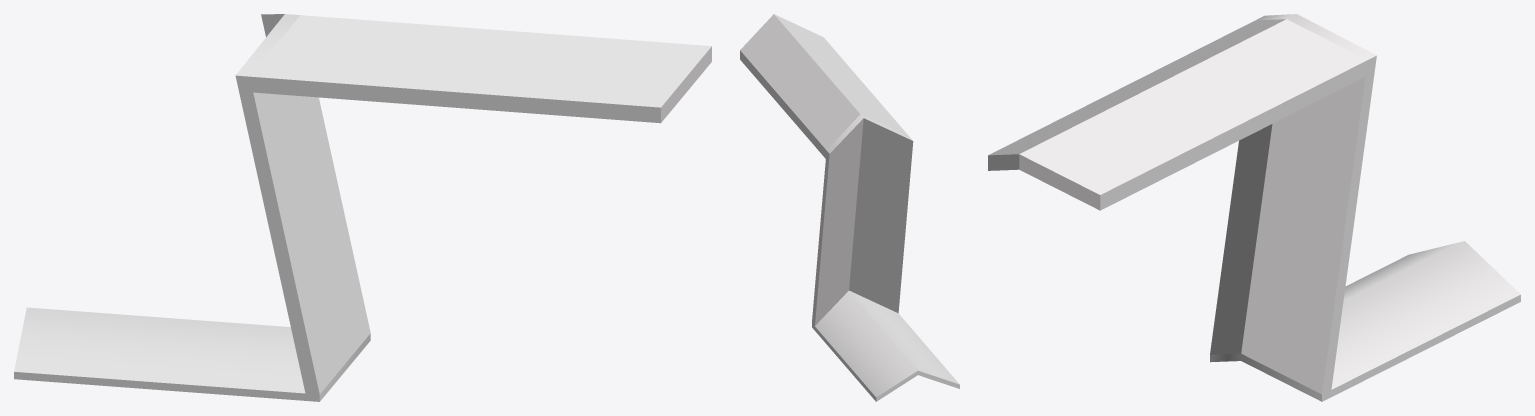
Rendered from desk_lamp.FBX.
3 renders of one model, left to right at view 1: azimuth 30°, elevation 25°; view 2: azimuth 150°, elevation 25°; view 3: azimuth 270°, elevation 25°, orthographic. The views are drawn at different scales.
Parts seen in each view (by area): view 1: Desk_Lamp_Desk_Lamp_auv; view 2: Desk_Lamp_Desk_Lamp_auv; view 3: Desk_Lamp_Desk_Lamp_auv.
Part boxes in pixels (box(x1,y1,x2,y2)): Desk_Lamp_Desk_Lamp_auv: box(14, 14, 711, 401); Desk_Lamp_Desk_Lamp_auv: box(740, 14, 959, 401); Desk_Lamp_Desk_Lamp_auv: box(988, 14, 1520, 401).
Size of the model in its own units: 81.55 by 53.26 by 72.97.
1 material, 1 textured.
